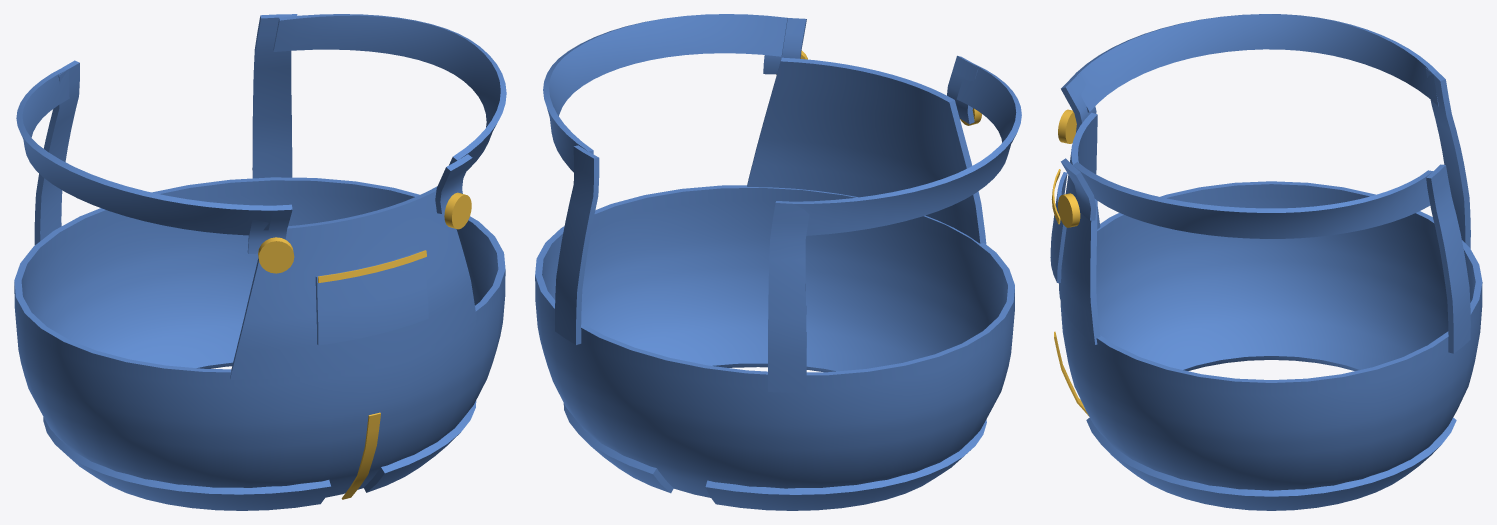
File: overalls.fbx
3 renders of one model, left to right at view 1: azimuth 30°, elevation 25°; view 2: azimuth 150°, elevation 25°; view 3: azimuth 270°, elevation 25°, orthographic. The views are drawn at different scales.
Visible parts, largest first — view 1: Overalls_Pants, Overalls_Bib, Overalls_StrapTR, Overalls_StrapTL, Overalls_Pocket, Overalls_StrapBR, Overalls_CuffL, Overalls_StrapBL, Overalls_CuffR, Overalls_StrapFL, Overalls_StrapFR, Overalls_ButtonL (+3 smaller); view 2: Overalls_Pants, Overalls_Bib, Overalls_StrapTR, Overalls_StrapTL, Overalls_StrapBL, Overalls_CuffL, Overalls_StrapBR, Overalls_CuffR, Overalls_StrapFR, Overalls_StrapFL; view 3: Overalls_Pants, Overalls_StrapTL, Overalls_StrapTR, Overalls_CuffR, Overalls_Bib, Overalls_StrapBR, Overalls_StrapBL, Overalls_Pocket, Overalls_StrapFR, Overalls_StrapFL, Overalls_ButtonR, Overalls_ButtonL.
Boxes of the visible parts, x1,y1,x2,y2 form: Overalls_Pants: (14,177,505,497); Overalls_Bib: (230,186,476,379); Overalls_StrapTR: (273,14,506,170); Overalls_StrapTL: (16,68,273,235); Overalls_Pocket: (315,251,428,345); Overalls_StrapBR: (252,14,297,178); Overalls_CuffL: (43,417,330,510); Overalls_StrapBL: (34,60,79,245); Overalls_CuffR: (204,365,476,492); Overalls_StrapFL: (247,204,292,253); Overalls_StrapFR: (435,154,472,213); Overalls_ButtonL: (258,237,294,273); Overalls_Pants: (535,185,1014,497); Overalls_Bib: (747,57,986,244); Overalls_StrapTR: (543,14,787,172); Overalls_StrapTL: (791,62,1021,235); Overalls_StrapBL: (768,201,809,392); Overalls_CuffL: (705,419,986,510); Overalls_StrapBR: (555,145,599,344); Overalls_CuffR: (563,365,829,493); Overalls_StrapFR: (763,18,806,74); Overalls_StrapFL: (947,55,978,124); Overalls_Pants: (1060,181,1482,490); Overalls_StrapTL: (1068,14,1438,112); Overalls_StrapTR: (1073,162,1433,238); Overalls_CuffR: (1086,417,1456,510); Overalls_Bib: (1058,112,1100,344); Overalls_StrapBR: (1426,164,1470,353); Overalls_StrapBL: (1425,68,1470,248); Overalls_Pocket: (1050,172,1067,282); Overalls_StrapFR: (1061,158,1096,220); Overalls_StrapFL: (1061,73,1096,132); Overalls_ButtonR: (1058,193,1080,227); Overalls_ButtonL: (1058,109,1076,143).
Bounding box in the file's own units: 14.18 × 10.57 × 12.77.
